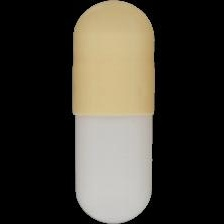0456-2220: (0, 0, 224, 224)
